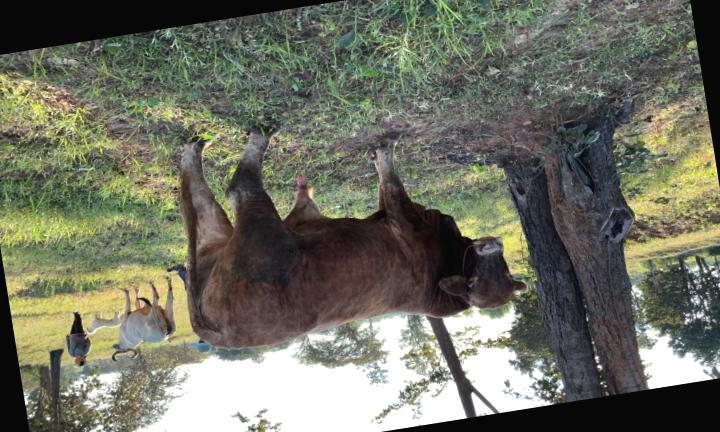Charolais: (181, 129, 527, 348)
